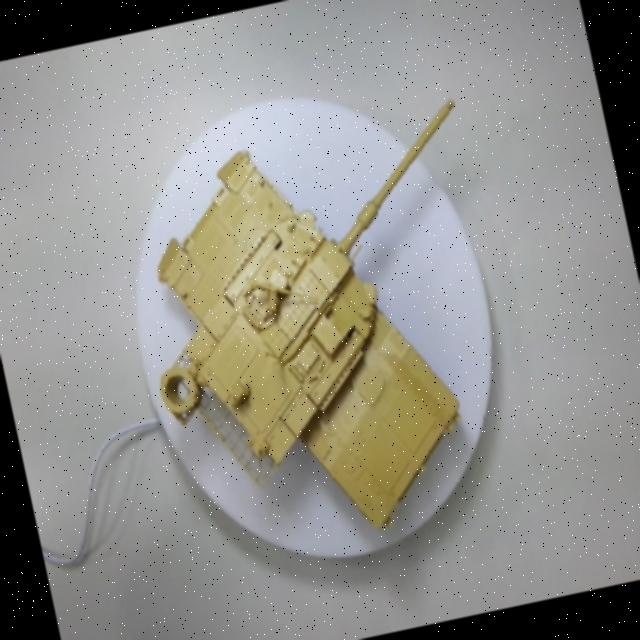korea tank: (90, 64, 580, 590)
